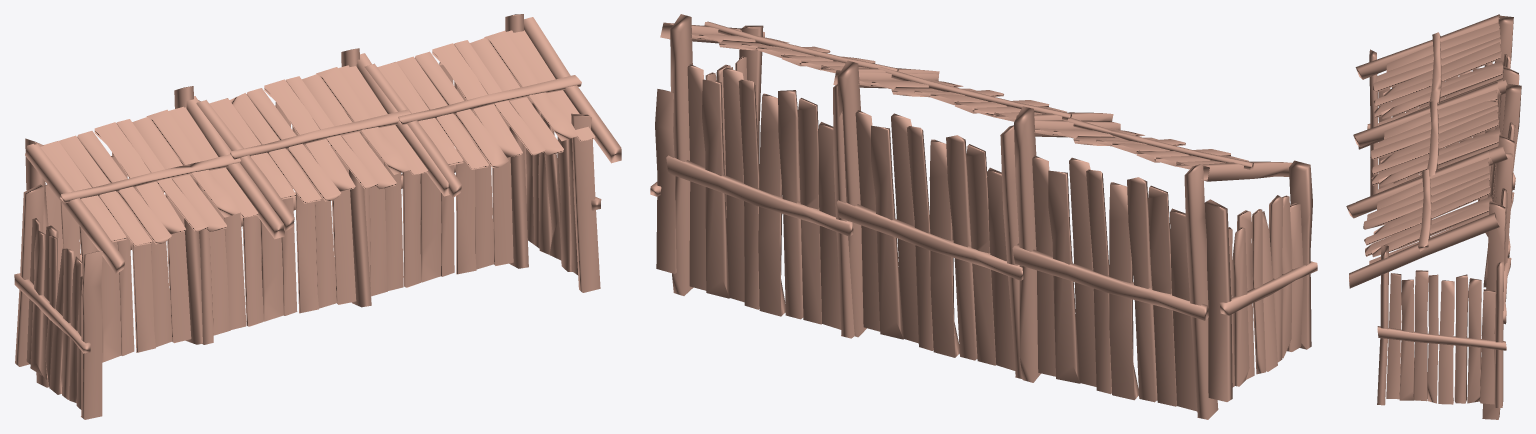
File: prop_shed_02_decimated-20.fbx
3 views of the same model, side by side, from view 1: azimuth 30°, elevation 25°; view 2: azimuth 150°, elevation 25°; view 3: azimuth 270°, elevation 25° (orthographic). The views are drawn at different scales.
Visible parts, largest first — view 1: prop_shed_02; view 2: prop_shed_02; view 3: prop_shed_02.
Boxes of the visible parts, x1=… form: prop_shed_02: x1=14, y1=14, x2=621, y2=419; prop_shed_02: x1=650, y1=14, x2=1317, y2=419; prop_shed_02: x1=1346, y1=14, x2=1521, y2=419.
Size of the model in its own units: 574 by 261 by 193.
